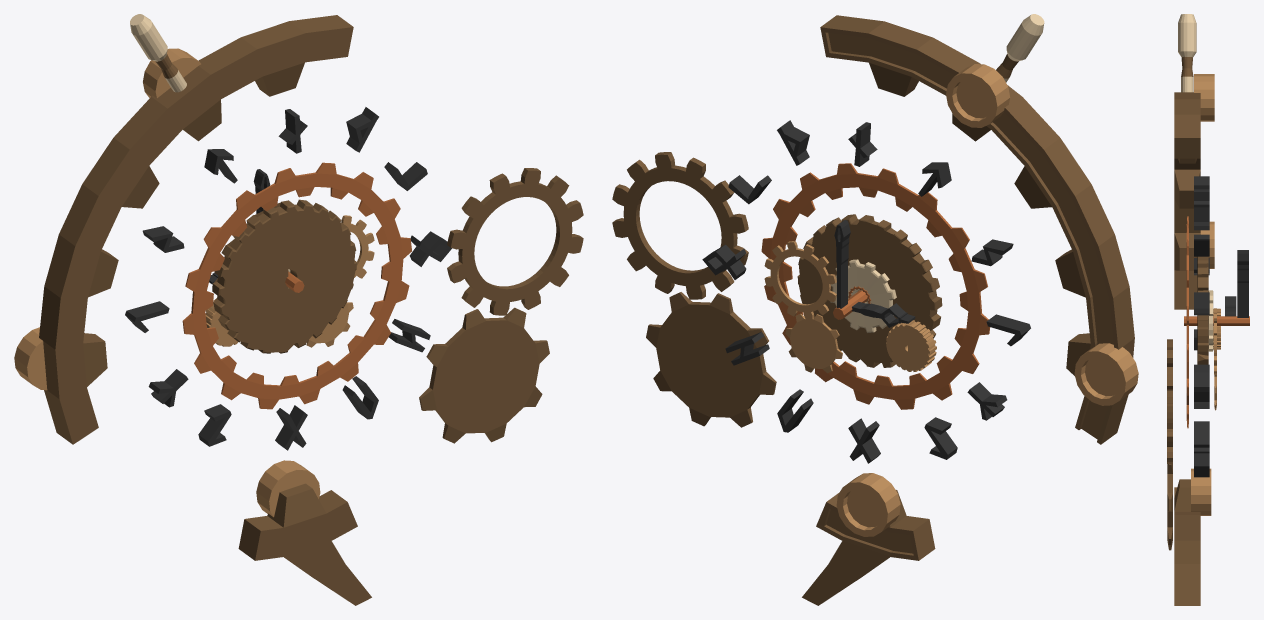
Rendered from TowerClock.fbx.
3 renders of one model, left to right at view 1: azimuth 30°, elevation 25°; view 2: azimuth 150°, elevation 25°; view 3: azimuth 270°, elevation 25°, orthographic. The views are drawn at different scales.
Visible parts, largest first — view 1: TowerClock, GearBig.006, OutSideRing.003, GearDefault.007, GearSimple.007, GearSimple.006, GearDefault.006; view 2: TowerClock, OutSideRing.003, GearDefault.007, GearBig.006, GearSimple.007, GearSimple.006, GearDefault.006, GearSmall.005, GearBig.007, MinuteHand, HourHand; view 3: TowerClock, GearBig.006, MinuteHand, GearSimple.007, OutSideRing.003, GearDefault.007, GearSmall.005, HourHand, GearSimple.006, GearBig.007.
Part boxes in pixels (left/top/right/bottom): TowerClock: left=14, top=14, right=451, bottom=605; GearBig.006: left=212, top=199, right=356, bottom=353; OutSideRing.003: left=182, top=162, right=411, bottom=409; GearDefault.007: left=419, top=307, right=549, bottom=443; GearSimple.007: left=447, top=168, right=583, bottom=315; GearSimple.006: left=341, top=215, right=374, bottom=278; GearDefault.006: left=306, top=302, right=353, bottom=347; TowerClock: left=702, top=14, right=1138, bottom=605; OutSideRing.003: left=761, top=163, right=990, bottom=409; GearDefault.007: left=646, top=292, right=776, bottom=427; GearBig.006: left=797, top=214, right=942, bottom=367; GearSimple.007: left=612, top=152, right=748, bottom=299; GearSimple.006: left=764, top=241, right=836, bottom=319; GearDefault.006: left=785, top=313, right=842, bottom=373; GearSmall.005: left=830, top=259, right=896, bottom=332; GearBig.007: left=886, top=320, right=936, bottom=371; MinuteHand: left=834, top=220, right=850, bottom=308; HourHand: left=852, top=302, right=915, bottom=327; TowerClock: left=1174, top=14, right=1249, bottom=605; GearBig.006: left=1197, top=256, right=1208, bottom=364; MinuteHand: left=1237, top=250, right=1248, bottom=317; GearSimple.007: left=1167, top=339, right=1172, bottom=463; OutSideRing.003: left=1186, top=216, right=1188, bottom=428; GearDefault.007: left=1167, top=464, right=1172, bottom=550; GearSmall.005: left=1208, top=290, right=1213, bottom=351; HourHand: left=1225, top=296, right=1236, bottom=316; GearSimple.006: left=1214, top=308, right=1216, bottom=374; GearBig.007: left=1213, top=308, right=1220, bottom=349.
Size of the model in its own units: 71.03 by 79.89 by 11.79.
